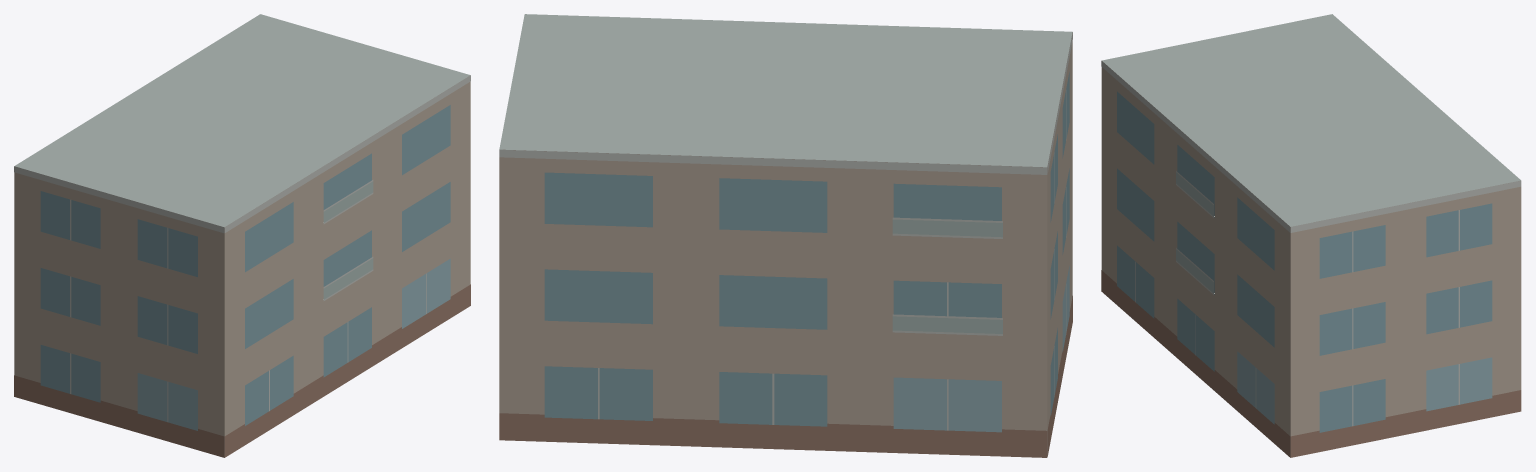
The model's file is survey-upis-32698021.glb.
3 renders of one model, left to right at view 1: azimuth 30°, elevation 25°; view 2: azimuth 150°, elevation 25°; view 3: azimuth 270°, elevation 25°, orthographic. The views are drawn at different scales.
Visible parts, largest first — view 1: survey-upis-32698021.tmp; view 2: survey-upis-32698021.tmp; view 3: survey-upis-32698021.tmp.
Part boxes in pixels (left/top/right/bottom): survey-upis-32698021.tmp: left=14, top=14, right=470, bottom=457; survey-upis-32698021.tmp: left=499, top=14, right=1072, bottom=457; survey-upis-32698021.tmp: left=1101, top=14, right=1521, bottom=457.
Bounding box in the file's own units: 18.1 × 9.15 × 15.08.
